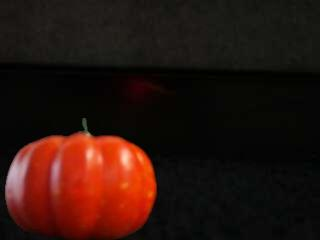Pumpkin: (5, 117, 158, 240)
